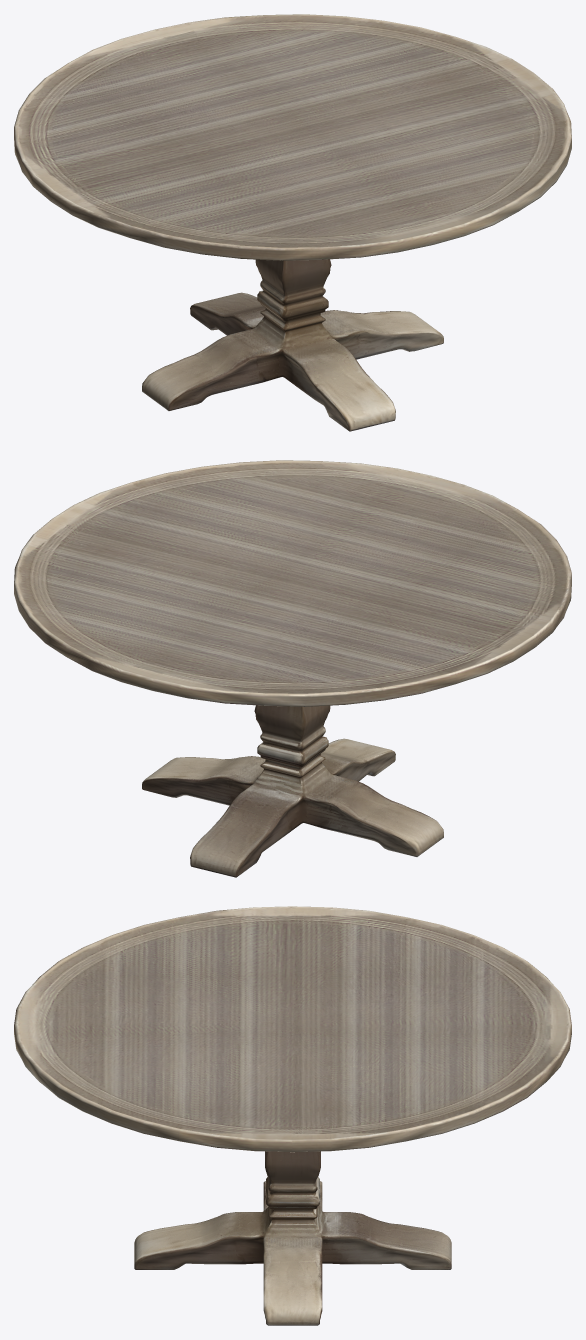
The model's file is Distressed_Cream_60in_0403210955_texture.glb.
The picture shows the model from 3 angles, top to bottom: view 1: azimuth 30°, elevation 25°; view 2: azimuth 150°, elevation 25°; view 3: azimuth 270°, elevation 25°; orthographic projection.
Visible parts, largest first — view 1: Mesh_0.001; view 2: Mesh_0.001; view 3: Mesh_0.001.
Part boxes in pixels (<box>): Mesh_0.001: <box>14,14,571,431</box>; Mesh_0.001: <box>14,460,571,877</box>; Mesh_0.001: <box>14,906,571,1325</box>.
Bounding box in the file's own units: 1.63 × 0.762 × 1.63.
Materials: 1 (1 with a texture image).
